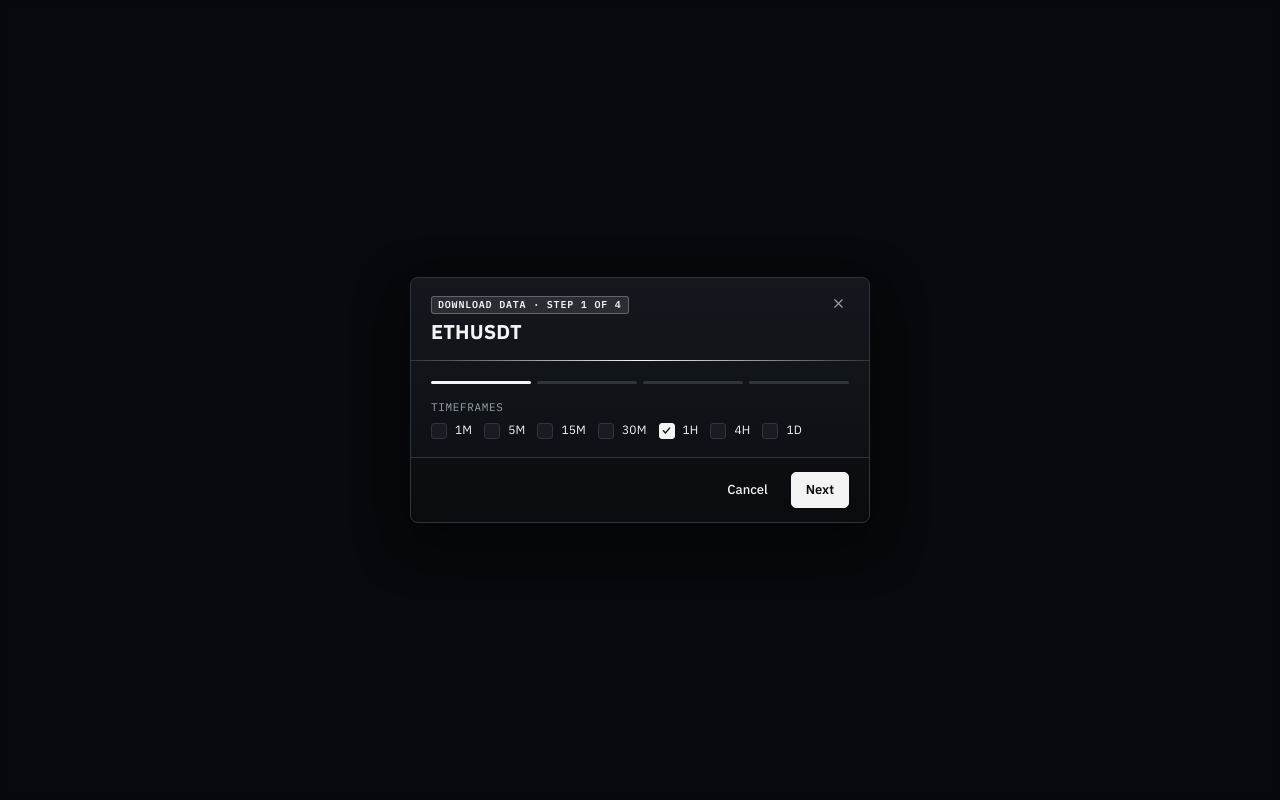
Test: Adversarial Stress Harness: Milestone 2 (Migrated Modals) › DownloadWizard: Multi-Step Interaction & Dismissal Invariants › handles download failure: displays error, unblocks dismissal, and allows retry
Click the button "Next" at x=820, y=490, box [791, 472, 849, 508]
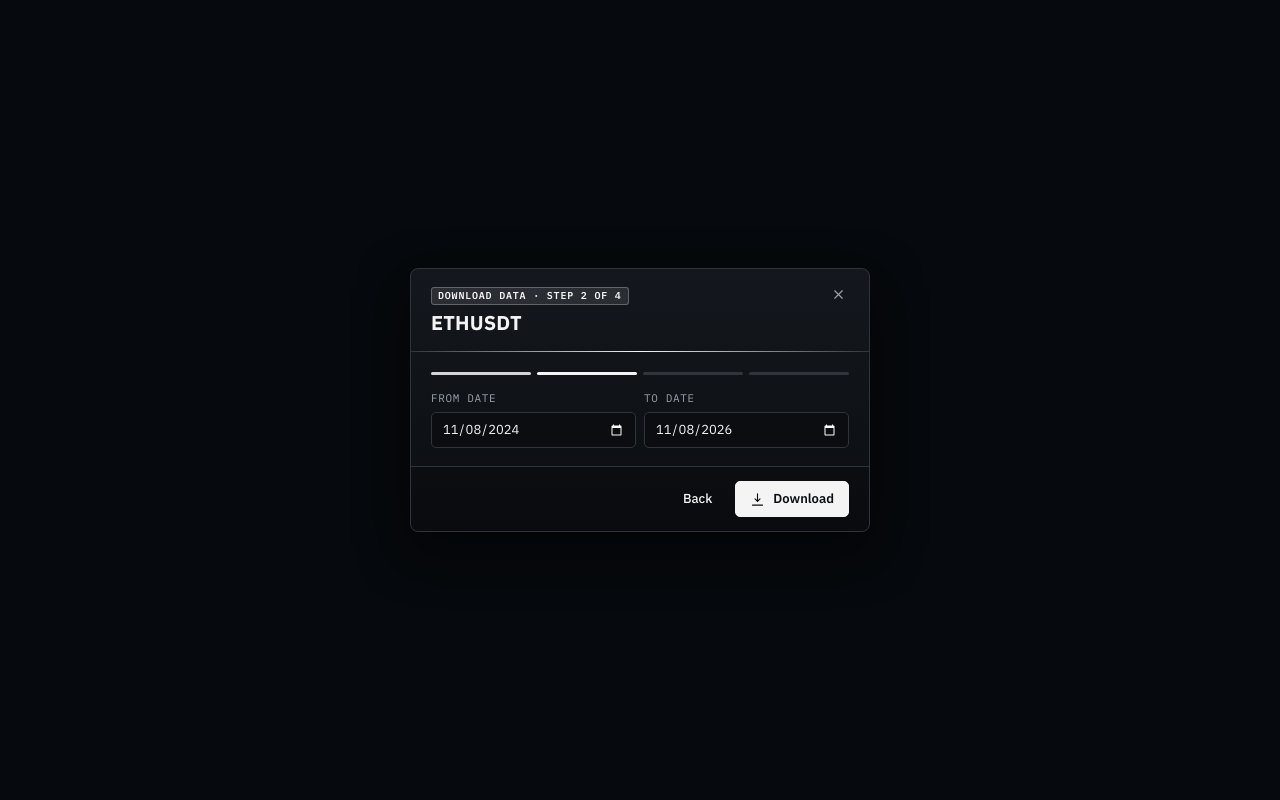
Click the button "Download" at x=792, y=499, box [735, 481, 849, 517]
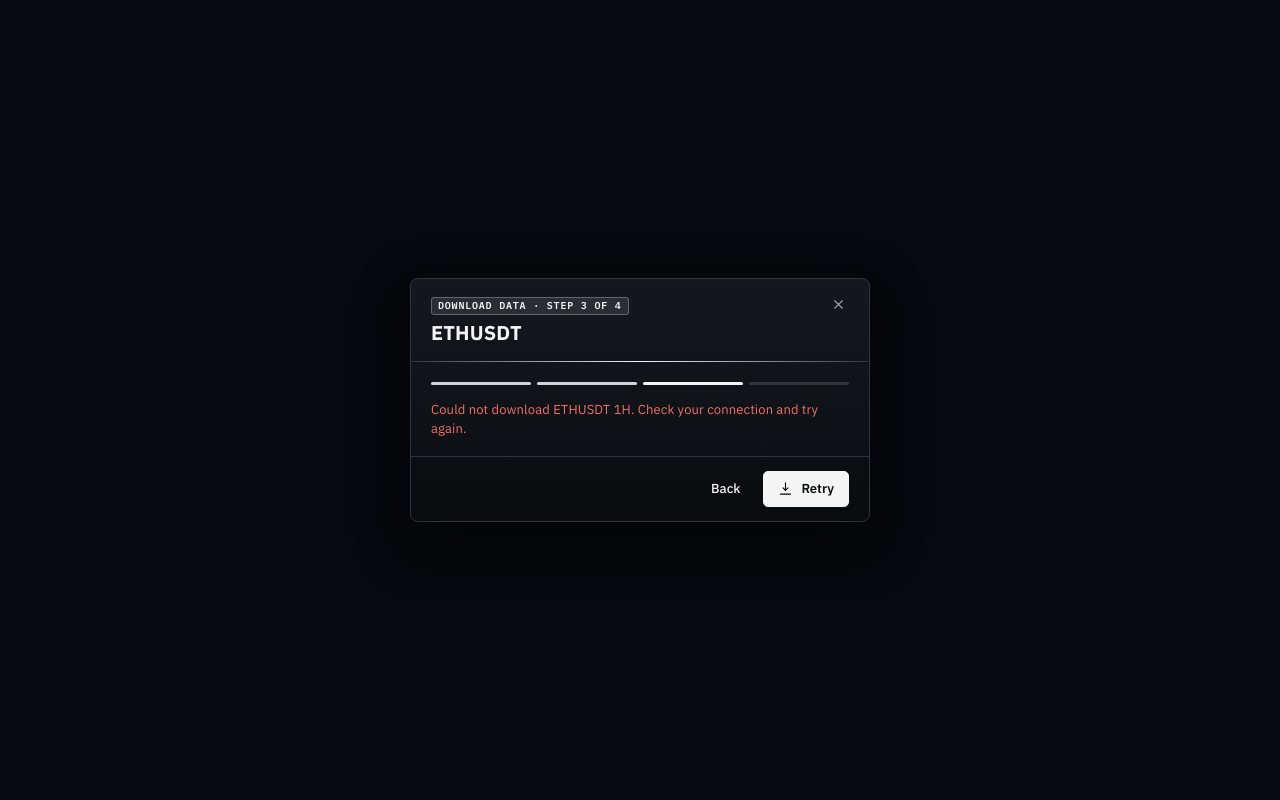
Now the button "Back" is shown, box [696, 471, 756, 507]
Now the text "Could not download ETHUSDT 1H" is shown, box [431, 401, 849, 438]
Now the button "Retry" is shown
Click the button "Retry" at x=806, y=489, box [763, 471, 849, 507]
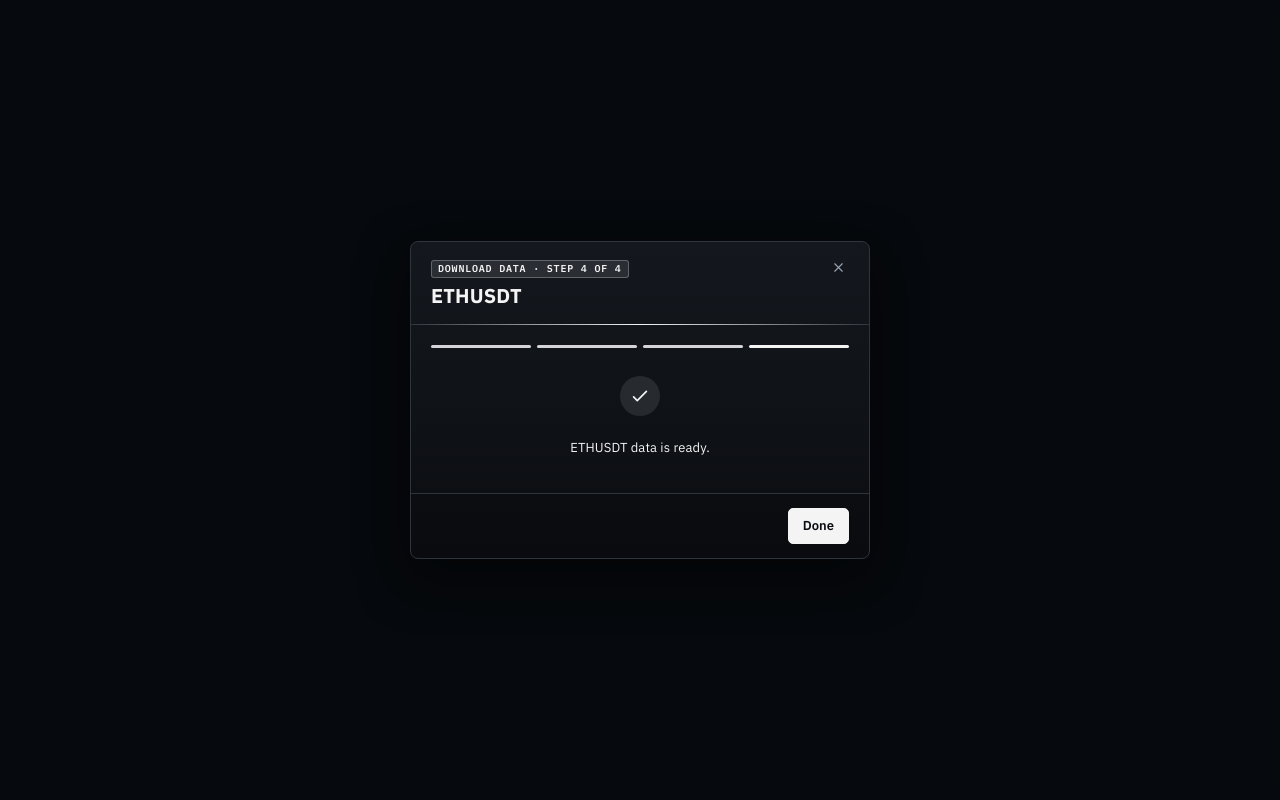
Now the text "Download data · Step 4 of 4" is shown, box [438, 264, 622, 274]
Now the text "ETHUSDT data is ready." is shown, box [570, 439, 710, 458]
